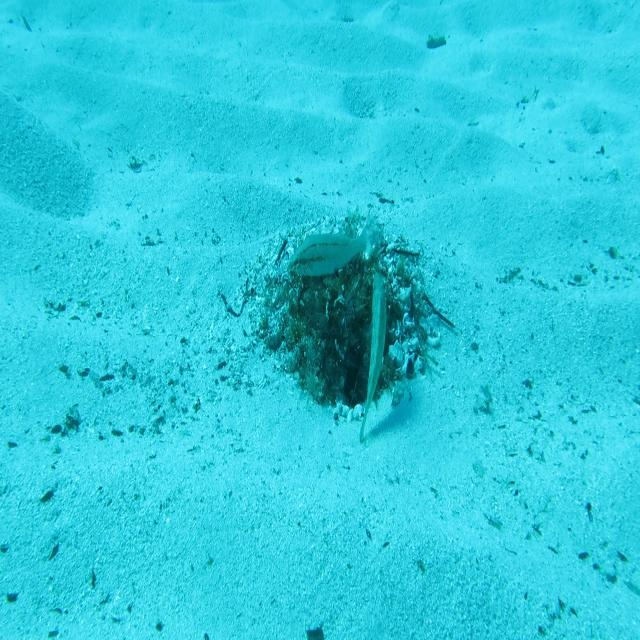GB: (358, 268, 396, 446)
core_nest: (318, 250, 364, 294)
female: (286, 209, 380, 280)
nest: (232, 197, 443, 436)
vegetation: (306, 623, 326, 640), (425, 34, 446, 50)
